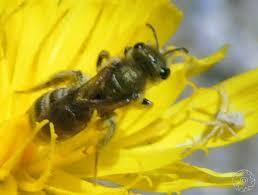Seladonia: (19, 17, 193, 161)
